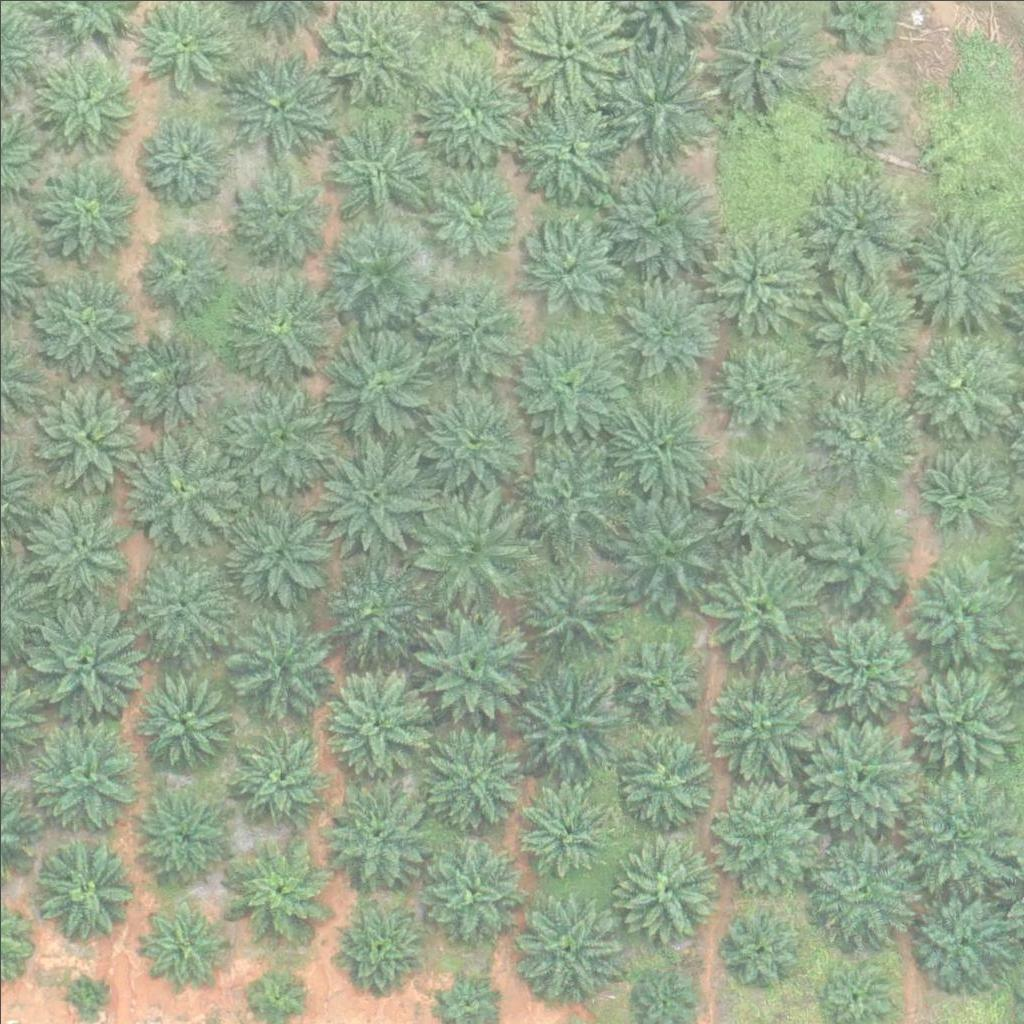Kelapa_Sawit: (893, 765, 1018, 891), (799, 600, 924, 726), (698, 658, 823, 784), (699, 543, 824, 669), (603, 487, 728, 613), (507, 667, 632, 793), (508, 548, 633, 674), (508, 432, 633, 558), (407, 598, 532, 724), (409, 480, 534, 606), (312, 432, 437, 558), (24, 594, 149, 720), (316, 318, 441, 444), (409, 378, 534, 504), (506, 321, 631, 447), (593, 39, 718, 165), (311, 656, 436, 781), (121, 425, 246, 550), (214, 376, 339, 501), (214, 263, 339, 388), (899, 659, 1012, 773), (600, 169, 713, 283), (807, 374, 920, 488), (901, 555, 1014, 668), (908, 437, 1021, 550), (807, 489, 920, 602), (707, 778, 820, 891), (321, 109, 434, 222), (697, 215, 810, 328), (807, 266, 920, 379), (803, 165, 916, 278), (805, 721, 917, 835), (700, 442, 812, 556), (416, 56, 528, 170), (514, 202, 626, 316), (513, 95, 625, 209), (810, 837, 922, 950), (28, 724, 140, 837), (25, 488, 137, 601), (222, 44, 334, 157), (903, 326, 1015, 439), (904, 212, 1016, 325), (615, 840, 715, 941), (616, 725, 716, 826), (513, 899, 613, 1000), (519, 778, 619, 879), (422, 842, 522, 943), (422, 730, 522, 831), (327, 785, 427, 886), (319, 558, 419, 659), (225, 838, 325, 939), (230, 723, 330, 824), (229, 609, 329, 710), (225, 505, 325, 606), (133, 786, 233, 887), (131, 670, 231, 771), (134, 554, 234, 655), (37, 382, 137, 483), (33, 268, 133, 369), (39, 157, 139, 258), (36, 44, 136, 145), (125, 331, 225, 432), (228, 163, 328, 264), (325, 222, 425, 323), (416, 279, 516, 380), (914, 887, 1014, 987), (609, 630, 709, 730), (33, 842, 133, 942), (313, 3, 413, 103), (610, 399, 710, 499), (619, 278, 719, 378), (712, 332, 812, 432), (140, 223, 228, 312), (140, 899, 228, 987), (143, 112, 231, 200), (329, 902, 416, 990), (428, 171, 515, 259), (721, 910, 796, 985), (825, 77, 900, 152), (65, 974, 102, 1012)
